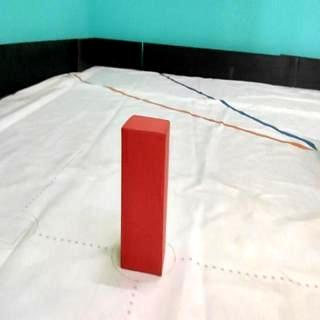redbox: (121, 114, 171, 277)
